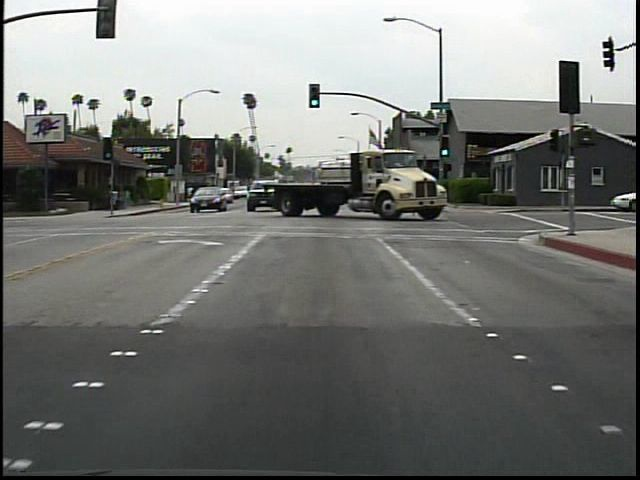person: (184, 182, 200, 206)
